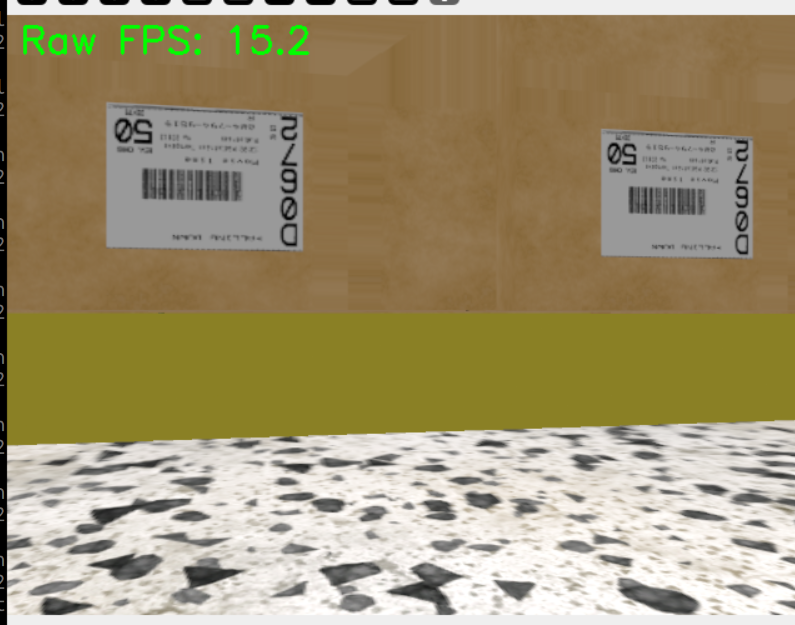barcode: (105, 101, 307, 253), (601, 128, 755, 261)
